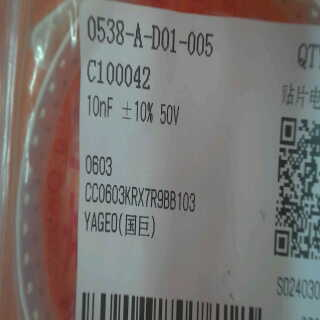10nF: (84, 88, 118, 124)
